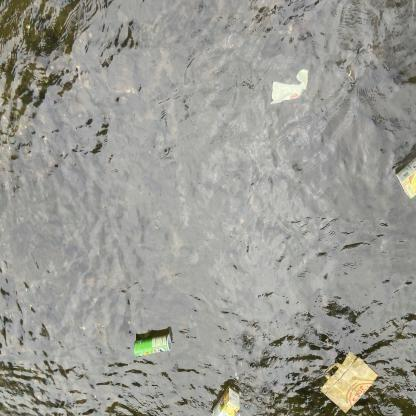Metal: (130, 332, 177, 358), (393, 152, 416, 202)
Plastic: (268, 66, 310, 110)
Trash: (318, 347, 379, 416)
